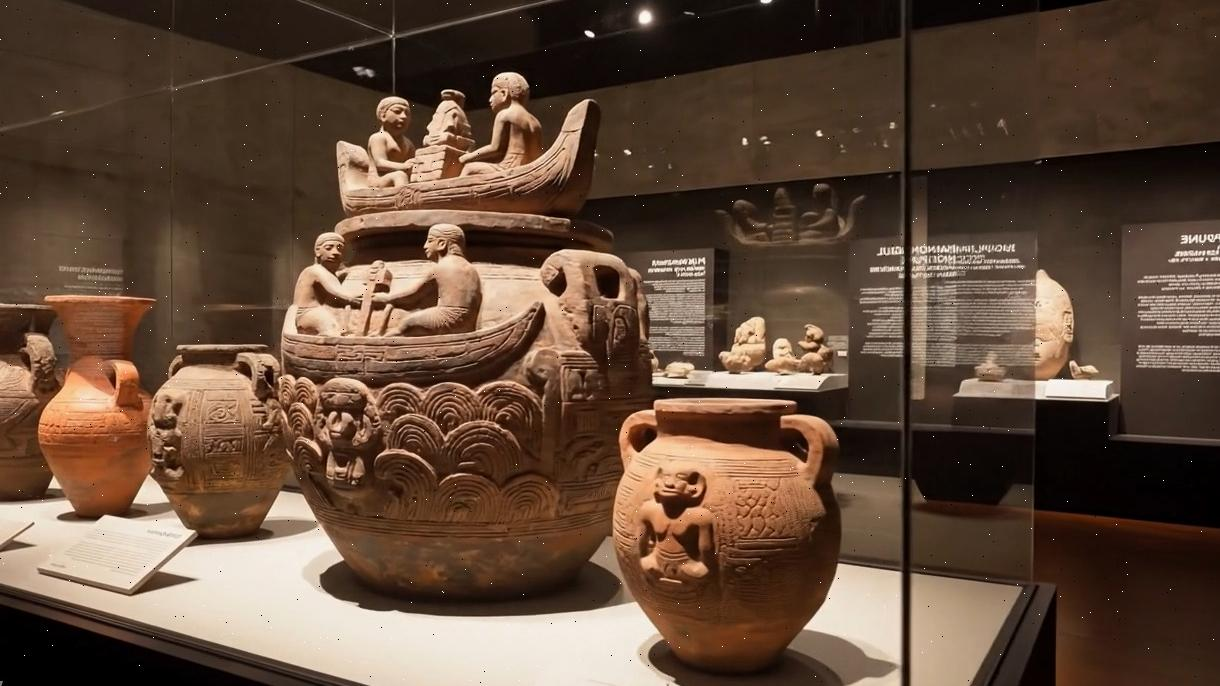manunggul_jar: (278, 59, 659, 614)
